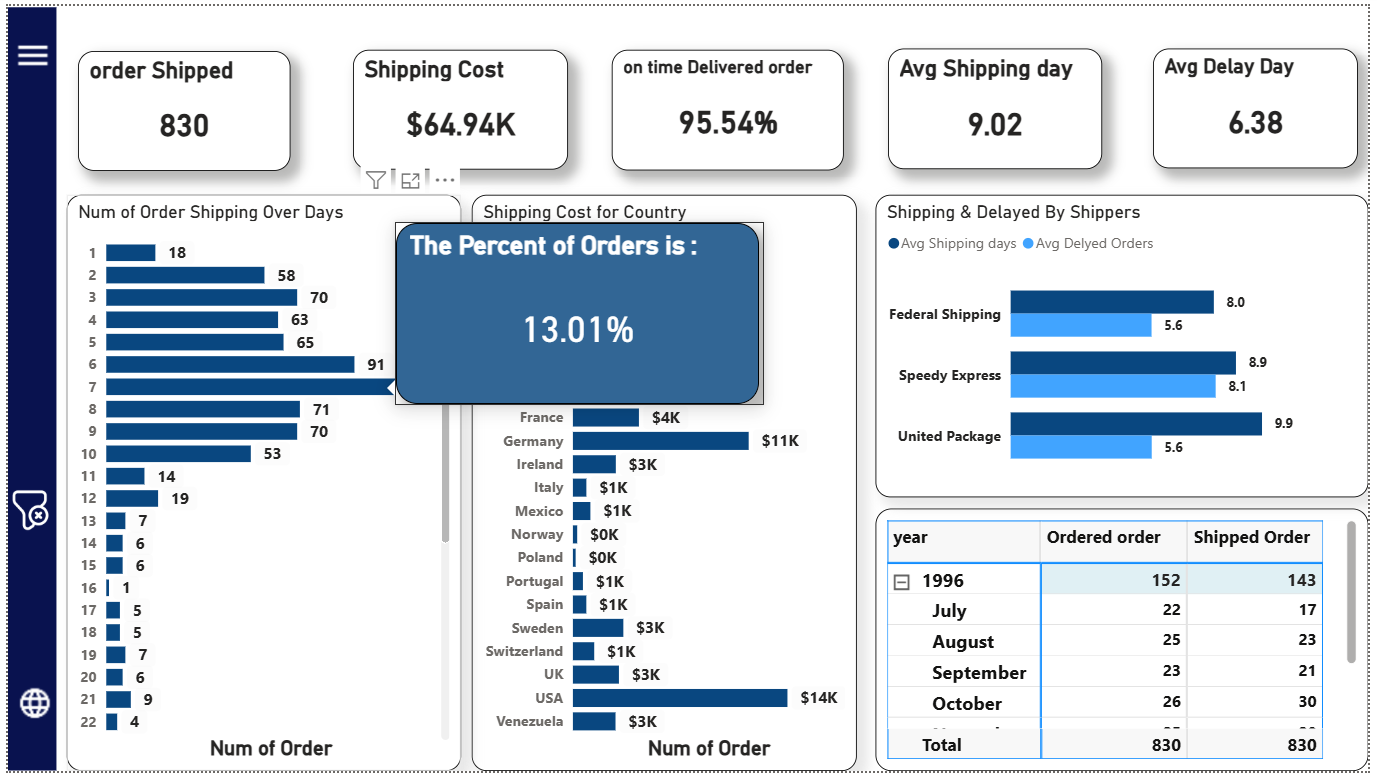

This screenshot's page, from the dashboard's own definition file:
{"tool":"powerbi","page":{"name":"Logistic & Shipping ","canvas":[1280,720],"ordinal":2},"visuals":[{"type":"card","title":"order Shipped ","fields":{"Values":["Measure of Logistic.Order Shipped"]},"box":[66.2,42.5,200,112.5],"z":0},{"type":"shape","title":"Side bar","box":[0,1.2,45.9,718.7],"z":500,"group":"g1"},{"type":"card","title":"Shipping Cost","fields":{"Values":["Measure of Logistic.Shipping Cost"]},"box":[325,41.2,202.5,112.5],"z":1000},{"type":"image","title":"Clear Filter","box":[0,430.8,41.1,88],"z":1000,"group":"g1"},{"type":"clusteredBarChart","title":"Shipping Cost for Country","fields":{"Y":["select","Measure of Logistic.Shipping Cost"],"Category":["Orders.ShipCountry"]},"box":[436.2,177.5,362.5,542.5],"z":1500},{"type":"actionButton","title":"Menu bar(button) ","box":[1.7,8.7,44.5,76.1],"z":2000,"group":"g1"},{"type":"card","title":"on time Delivered order","fields":{"Values":["Measure of Logistic.On Time Delivery By Shippers"]},"box":[568.8,41.2,218.8,113.8],"z":2000},{"type":"card","title":"Avg Delay Day","fields":{"Values":["Measure of Logistic.Avg Delyed Orders"]},"box":[1077.5,40,192.5,112.5],"z":3000},{"type":"card","title":"Avg Shipping day","fields":{"Values":["Measure of Logistic.Avg Shipping days"]},"box":[828.8,40,201.2,113.8],"z":4000},{"type":"pivotTable","fields":{"Rows":["date.year","date.month name"],"Values":["Metrics.#Order","Measure of Logistic.Order Shipped"]},"box":[816.2,472.5,463.8,247.5],"z":5000},{"type":"clusteredBarChart","title":"Num of Order  Shipping Over Days ","fields":{"Y":["select","Measure of Logistic.Order Frequency (logistic)"],"Category":["Orders.Diff Days"]},"box":[55,177.5,371.2,542.5],"z":6000},{"type":"clusteredBarChart","title":"Shipping & Delayed By Shippers","fields":{"Y":["Measure of Logistic.Avg Shipping days","Measure of Logistic.Avg Delyed Orders"],"Category":["DimShippers.CompanyName"]},"box":[816.2,177.5,463.8,285],"z":7000},{"type":"group","id":"g1","title":"Menu Button","box":[0,1.2,46.2,718.7],"z":9000},{"type":"actionButton","title":"linkden (Button)","box":[5,624.1,41.2,65],"z":9500}]}

Visuals, with their boxes in screenshot pixels (x1, y1, x2, y2), scaled from the page's 1280x720 canvas onto the 1377x777 screenshot:
"order Shipped " card: (left=71, top=46, right=286, bottom=167)
"Side bar" shape: (left=0, top=1, right=49, bottom=776)
"Shipping Cost" card: (left=350, top=44, right=567, bottom=166)
"Clear Filter" image: (left=0, top=465, right=44, bottom=560)
"Shipping Cost for Country" clusteredBarChart: (left=469, top=192, right=859, bottom=776)
"Menu bar(button) " actionButton: (left=2, top=9, right=50, bottom=92)
"on time Delivered order" card: (left=612, top=44, right=847, bottom=167)
"Avg Delay Day" card: (left=1159, top=43, right=1366, bottom=165)
"Avg Shipping day" card: (left=892, top=43, right=1108, bottom=166)
pivotTable - date.year x date.month name: (left=878, top=510, right=1376, bottom=776)
"Num of Order  Shipping Over Days " clusteredBarChart: (left=59, top=192, right=458, bottom=776)
"Shipping & Delayed By Shippers" clusteredBarChart: (left=878, top=192, right=1376, bottom=499)
"Menu Button" group: (left=0, top=1, right=50, bottom=776)
"linkden (Button)" actionButton: (left=5, top=674, right=50, bottom=744)
